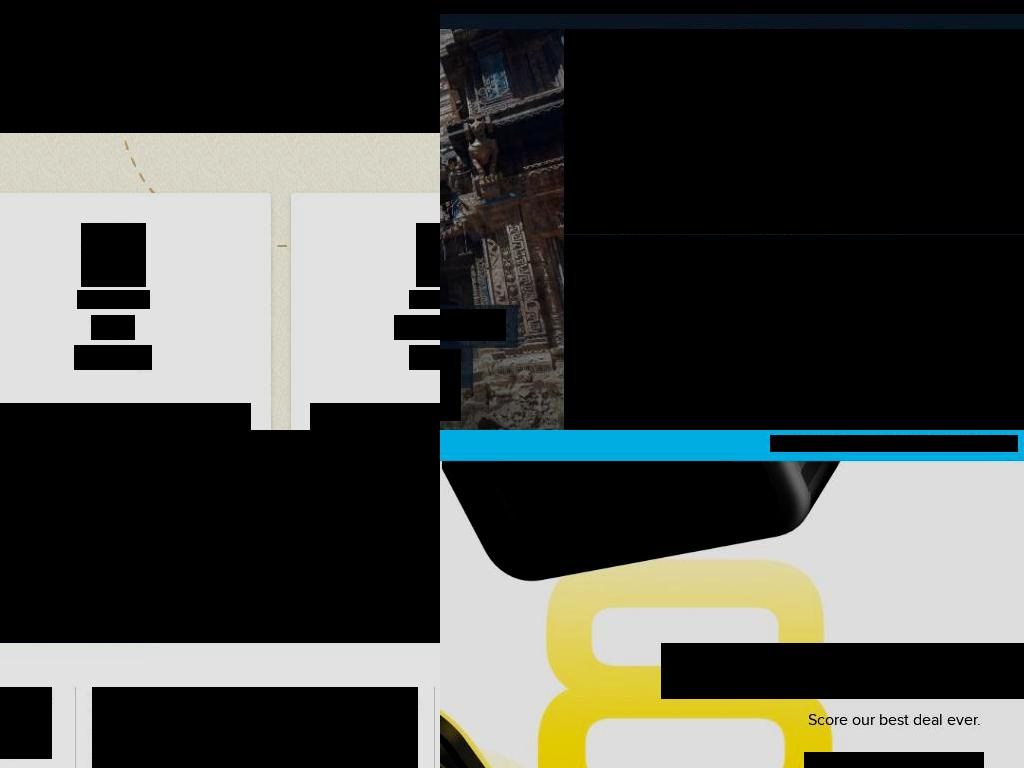button: (564, 29, 906, 234), (564, 235, 906, 430), (440, 29, 565, 430), (905, 29, 1024, 234), (804, 752, 984, 768)
heading: (92, 687, 418, 768), (440, 708, 1024, 733), (579, 374, 848, 422), (661, 643, 843, 699), (843, 643, 1024, 699), (0, 0, 440, 23), (579, 195, 865, 216), (920, 168, 1024, 216), (579, 173, 887, 187), (579, 352, 887, 366), (0, 687, 52, 759), (440, 309, 506, 341), (74, 345, 152, 370), (440, 286, 546, 300), (920, 146, 1024, 160), (394, 315, 440, 340), (91, 315, 135, 340), (409, 345, 440, 370)
iframe: (0, 430, 440, 643)
image: (81, 223, 146, 287), (416, 223, 440, 287)
link: (845, 435, 1018, 452)
text: (0, 23, 440, 133), (0, 403, 251, 430), (310, 403, 440, 430), (77, 290, 150, 309), (770, 435, 845, 452), (409, 290, 440, 309)
